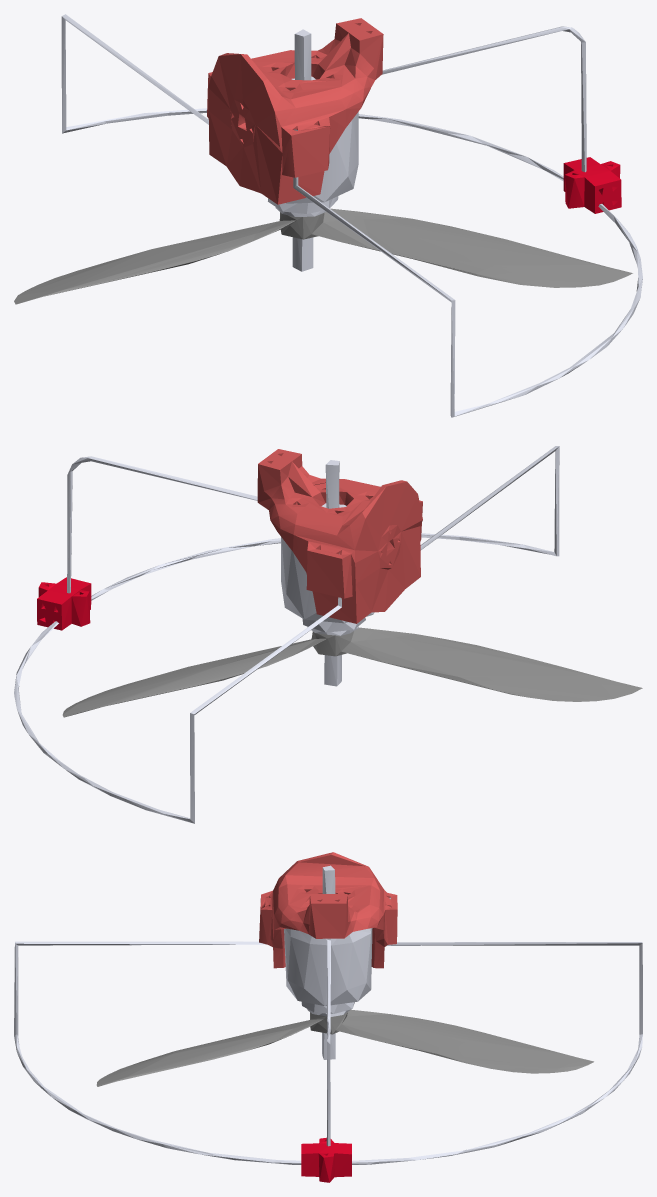
Rendered from amoeba_rotor_module.dae.
3 renders of one model, top to bottom at view 1: azimuth 30°, elevation 25°; view 2: azimuth 150°, elevation 25°; view 3: azimuth 270°, elevation 25°, orthographic. The views are drawn at different scales.
Visible parts, largest first — view 1: Shape_IndexedFaceSet; view 2: Shape_IndexedFaceSet; view 3: Shape_IndexedFaceSet.
Boxes of the visible parts, <box> form: Shape_IndexedFaceSet: <box>14,14,642,417</box>; Shape_IndexedFaceSet: <box>14,446,642,823</box>; Shape_IndexedFaceSet: <box>14,852,642,1182</box>.
Bounding box in the file's own units: 0.2294 × 0.2492 × 0.0835.
